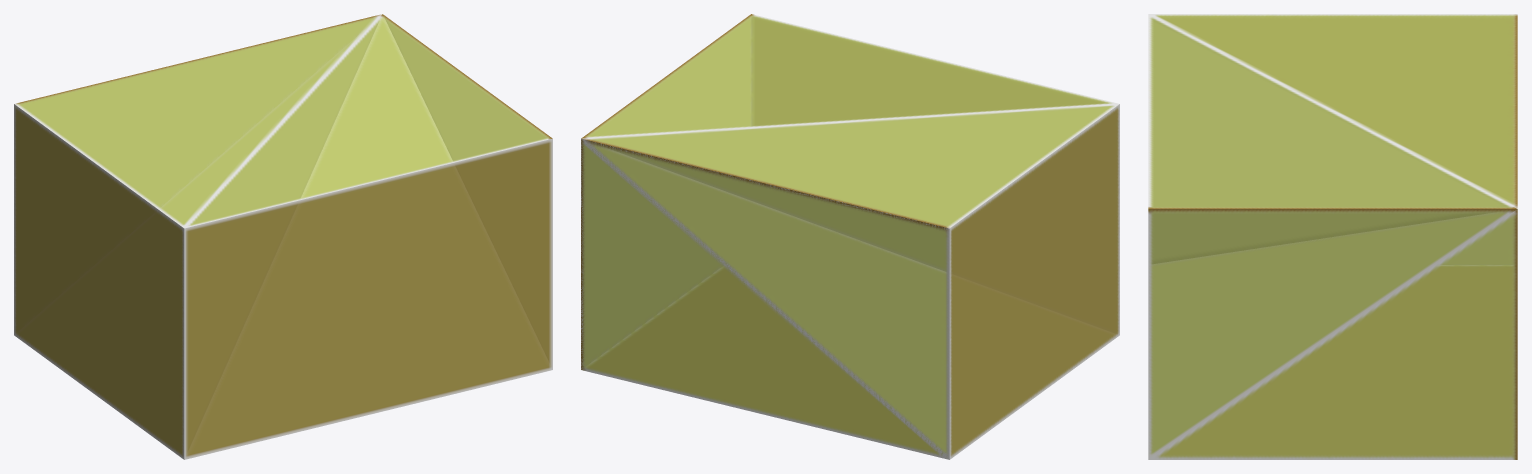
The picture shows the model from 3 angles, left to right: view 1: azimuth 30°, elevation 25°; view 2: azimuth 150°, elevation 25°; view 3: azimuth 270°, elevation 25°; orthographic projection. The views are drawn at different scales.
Parts seen in each view (by area): view 1: pyramidf2, pyramidf3, boxf, pyramidf1; view 2: boxf, pyramidf3, pyramidf1, pyramidf2, pyramidb1, pyramidb2; view 3: boxf, pyramidf2, pyramidf1, pyramidb1, pyramidf3, pyramidb3, pyramidb2.
Boxes of the visible parts, x1,y1,x2,y2 form: pyramidf2: (184, 14, 552, 459); pyramidf3: (14, 14, 382, 459); boxf: (18, 17, 548, 225); pyramidf1: (161, 18, 452, 207); boxf: (581, 16, 1113, 458); pyramidf3: (581, 104, 1119, 459); pyramidf1: (581, 139, 948, 459); pyramidf2: (581, 14, 1118, 270); pyramidb1: (585, 266, 936, 452); pyramidb2: (750, 17, 1104, 125); boxf: (1150, 15, 1514, 457); pyramidf2: (1148, 14, 1516, 459); pyramidf1: (1149, 209, 1517, 459); pyramidb1: (1161, 264, 1513, 456); pyramidf3: (1149, 14, 1517, 208); pyramidb3: (1159, 16, 1512, 202); pyramidb2: (1157, 213, 1485, 262).
Size of the model in its own units: 10 by 6 by 8.
Materials: 2 (2 with a texture image).
